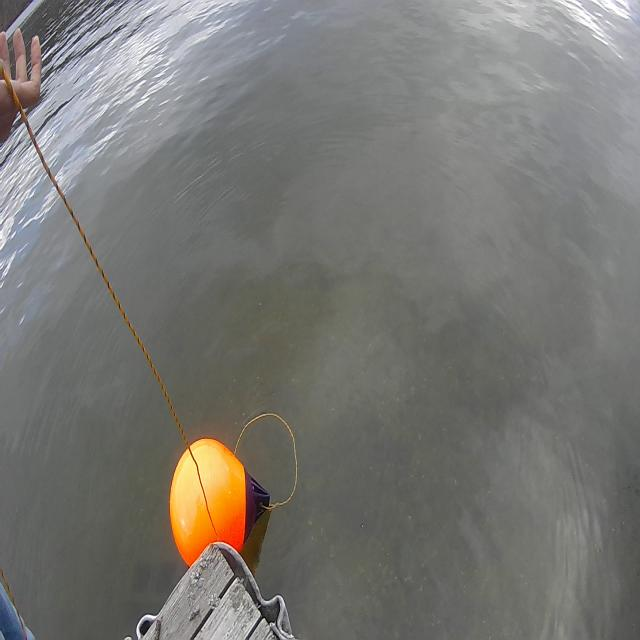Buoy: (168, 433, 248, 568)
